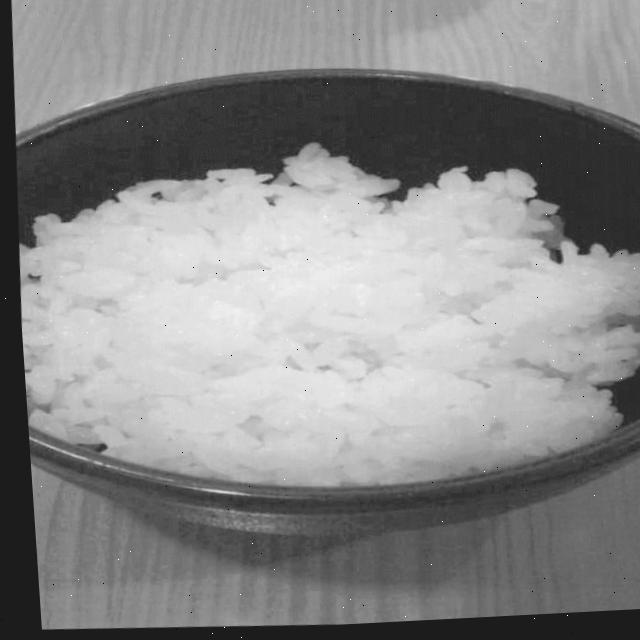米饭主食: (3, 29, 640, 585)
